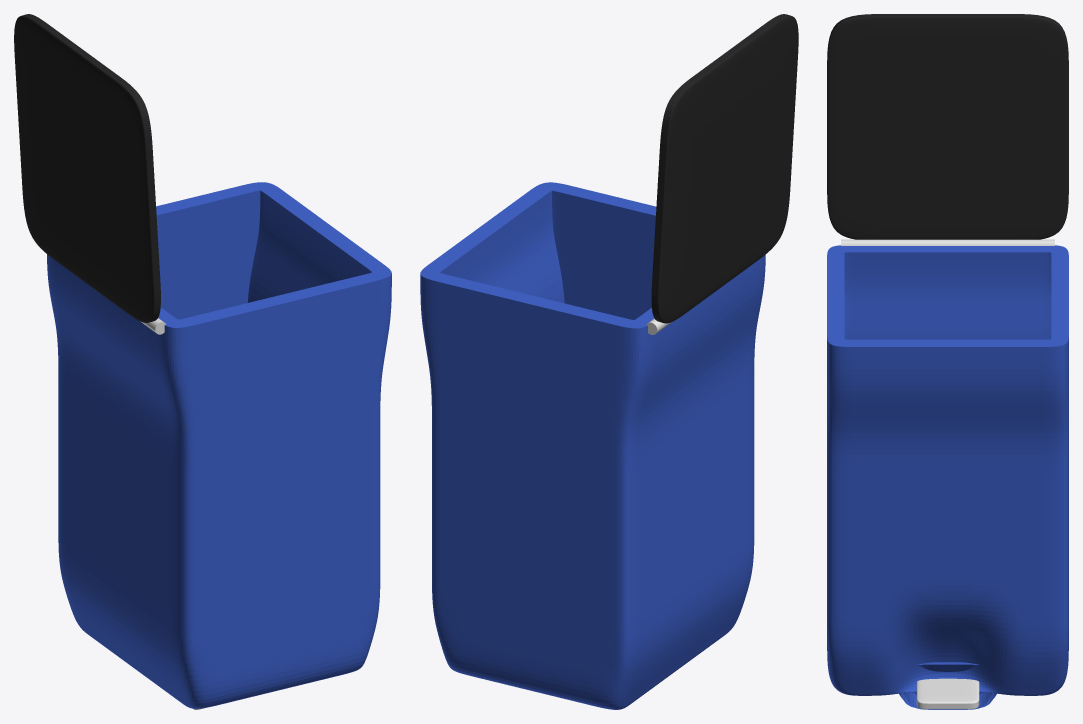
The model's file is poubelleBlue.fbx.
3 renders of one model, left to right at view 1: azimuth 30°, elevation 25°; view 2: azimuth 150°, elevation 25°; view 3: azimuth 270°, elevation 25°, orthographic. The views are drawn at different scales.
Parts seen in each view (by area): view 1: Cube.001_Cube.003; view 2: Cube.001_Cube.003; view 3: Cube.001_Cube.003.
Part boxes in pixels (x1,y1,x2,y2): Cube.001_Cube.003: (14, 14, 391, 709); Cube.001_Cube.003: (420, 14, 798, 709); Cube.001_Cube.003: (827, 14, 1068, 709).
Size of the model in its own units: 231 by 550 by 200.
